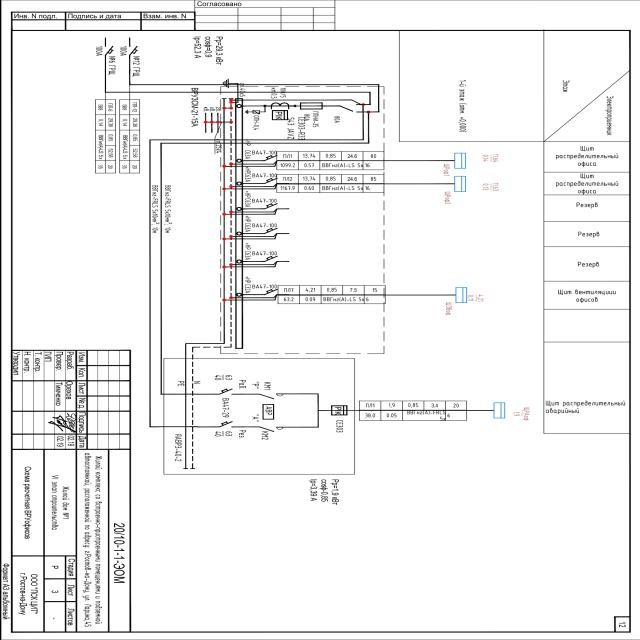-: (242, 276, 278, 294), (242, 242, 277, 260), (242, 190, 277, 207), (242, 166, 278, 182), (243, 216, 278, 232), (188, 85, 200, 129), (285, 116, 305, 140), (241, 150, 276, 160), (304, 111, 318, 128), (332, 114, 340, 124)
FU: (298, 101, 323, 111)
QF: (260, 203, 278, 211), (260, 255, 278, 263), (260, 227, 277, 235), (261, 177, 278, 185), (261, 154, 278, 162), (262, 289, 279, 297)
TT: (268, 100, 290, 110)
WH: (270, 110, 288, 122)
switch: (336, 104, 358, 114)
